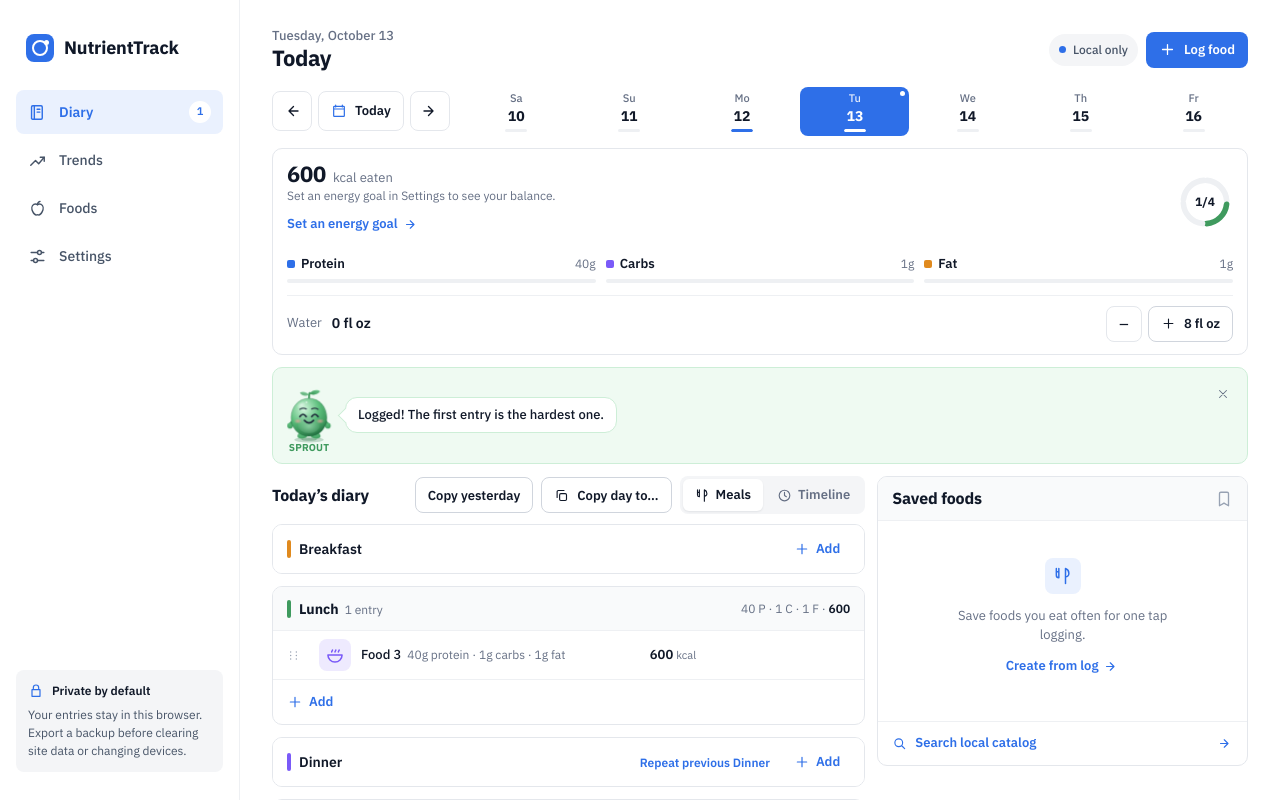
weekly recap › summarises_the_last_seven_days_on_trends
What coordinates should you click on to do the following:
click the button "Trends"
I would click on:
 (120, 160)
Its box is [16,138,223,182].
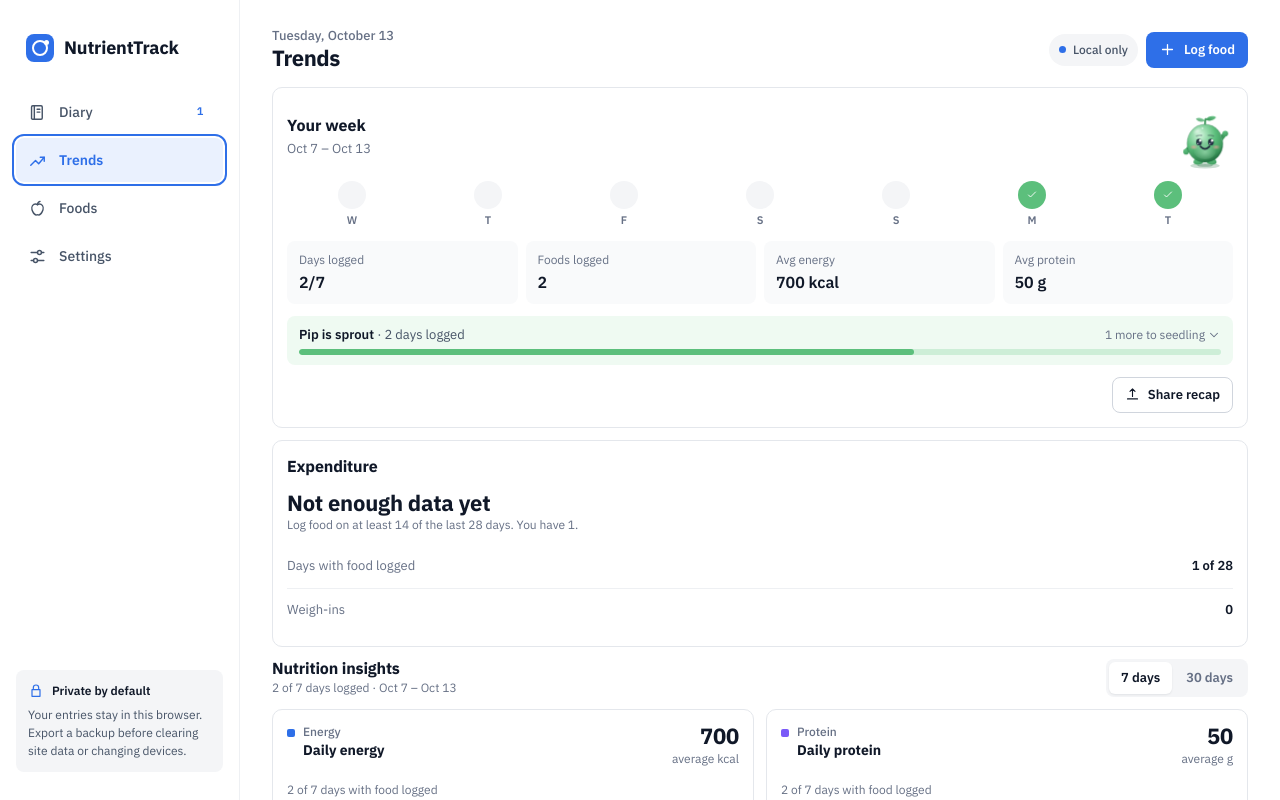
Check: the element named "2 of 7 days logged" is shown, box [287,182,1233,229]
Check: the text "700 kcal" is shown, box [776,272,839,292]
Check: the text "50 g" is shown, box [1014,272,1046,292]
